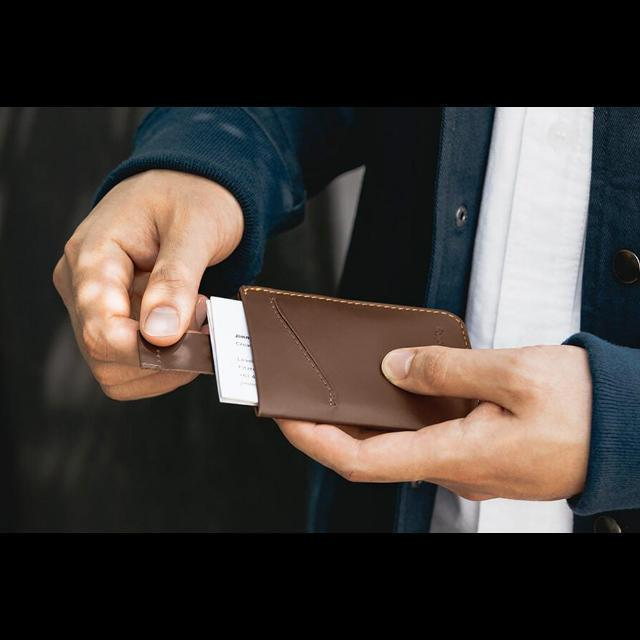wallet: (203, 281, 475, 439)
